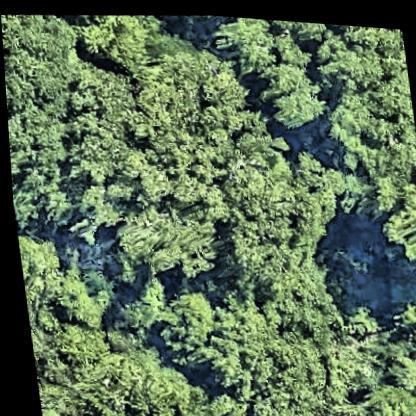tree-top: (218, 110, 346, 291), (197, 295, 340, 416), (99, 85, 222, 221), (49, 330, 206, 416), (103, 266, 216, 369), (323, 61, 416, 183), (107, 193, 224, 285), (1, 13, 80, 124), (61, 60, 141, 152), (311, 18, 409, 84), (254, 48, 327, 130), (13, 228, 71, 324), (68, 8, 155, 71), (45, 254, 111, 333), (7, 124, 68, 206), (368, 167, 416, 264), (207, 12, 275, 79), (350, 375, 416, 416), (9, 172, 40, 234), (267, 16, 334, 41), (393, 287, 416, 352)
